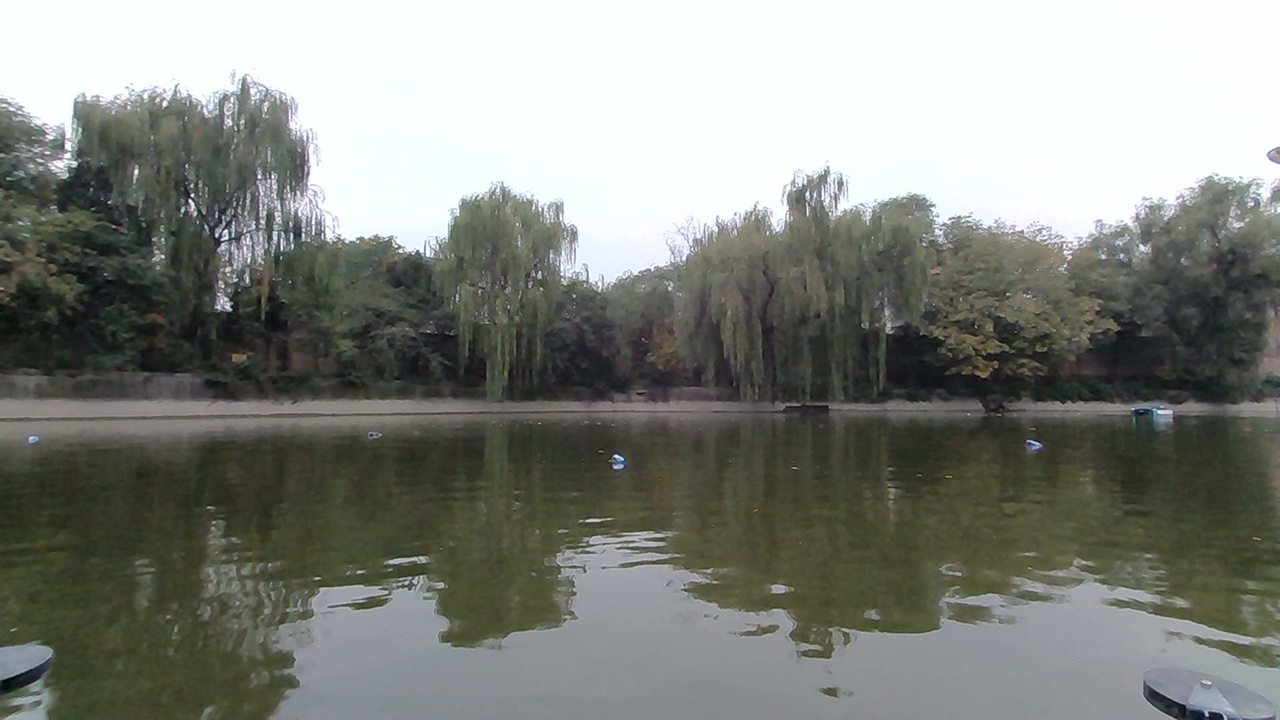bottle: (593, 446, 638, 473), (15, 425, 51, 457), (362, 421, 395, 444), (1019, 433, 1050, 457)
